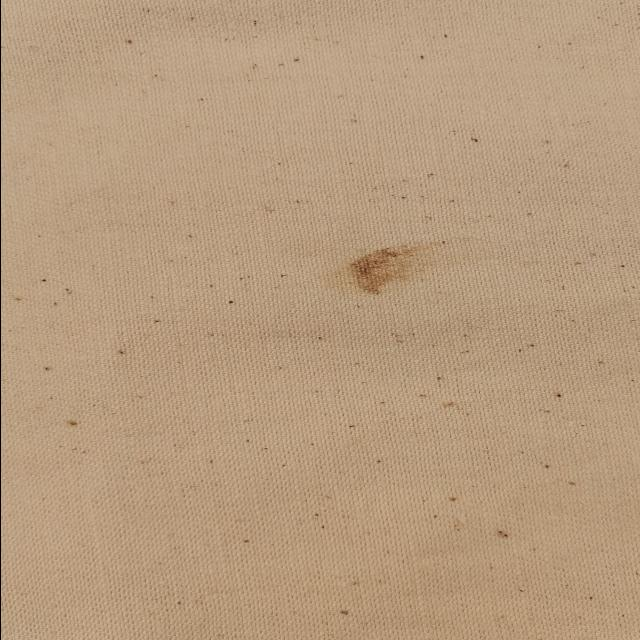taaaches: (338, 239, 455, 298)
